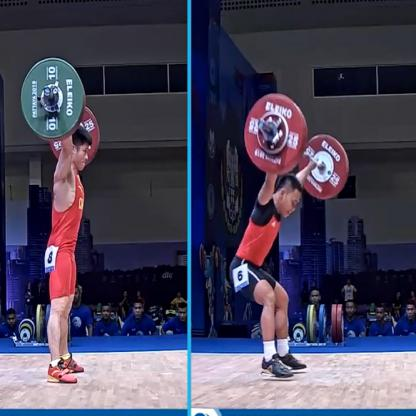Barbell: (12, 50, 92, 145), (237, 86, 315, 180)
